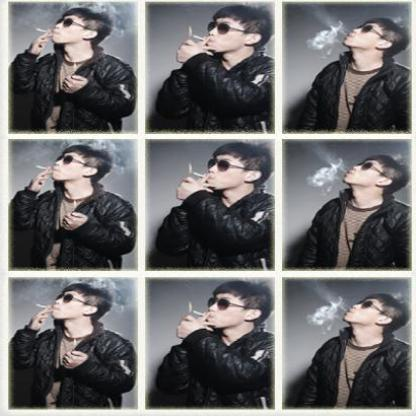cigarette: (187, 307, 204, 319), (189, 168, 204, 178), (189, 32, 204, 42), (33, 302, 50, 310), (34, 26, 50, 34), (34, 162, 48, 171)
person: (0, 4, 137, 134), (5, 140, 131, 270), (151, 279, 273, 409), (153, 140, 275, 268), (12, 278, 130, 409), (157, 8, 278, 131), (291, 150, 412, 272), (296, 283, 412, 407), (310, 9, 410, 132)
smoke: (302, 157, 350, 191), (302, 295, 346, 331), (306, 19, 352, 53), (66, 0, 115, 12), (64, 138, 118, 147), (70, 278, 114, 288)
